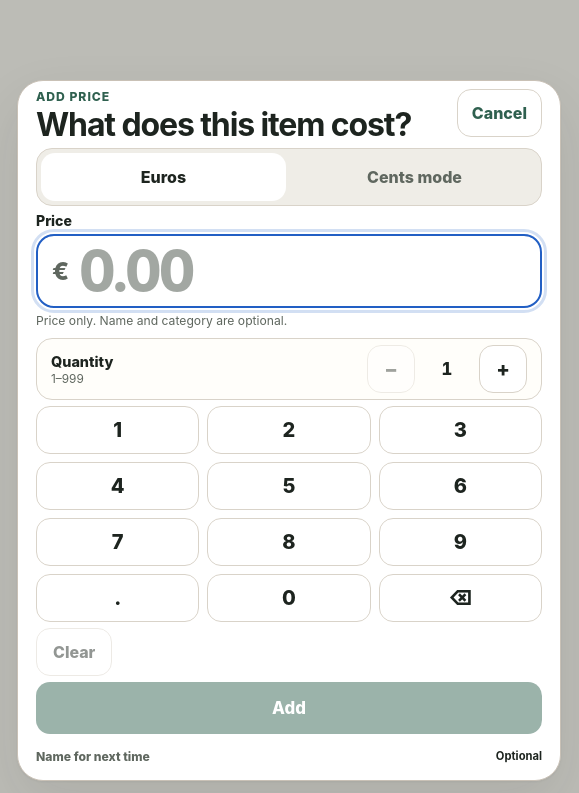
PriceEntrySurface › cancels over-budget review without changing the trip or draft
Type "53.41" into the field labelled "Price" at (302, 271), box [77,236,526,306]
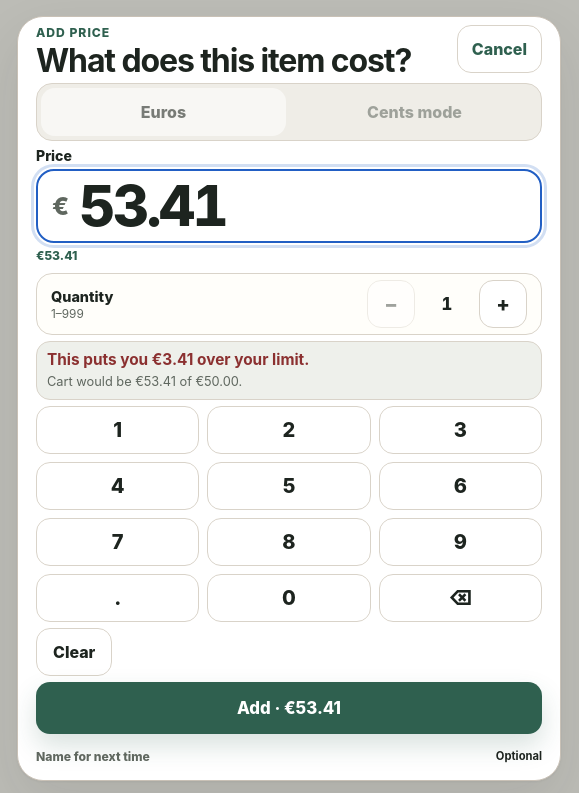
Click the button "Add · €53.41" at (289, 708), box [36,682,542,734]
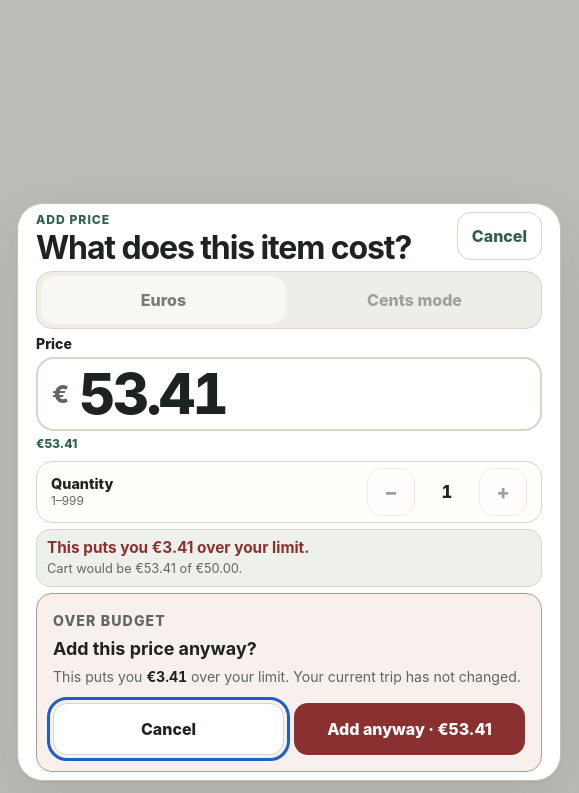
Click the button "Cancel" below "Add this price anyway?" at (168, 729), box [53,703,284,755]
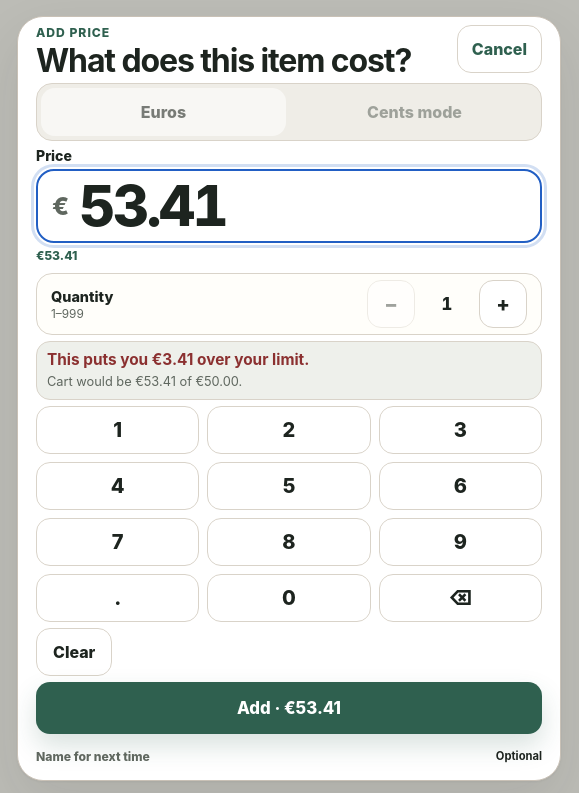
Expected: the heading "Add this price anyway?" is gone
